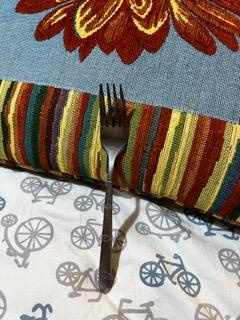fork: (96, 83, 129, 294)
